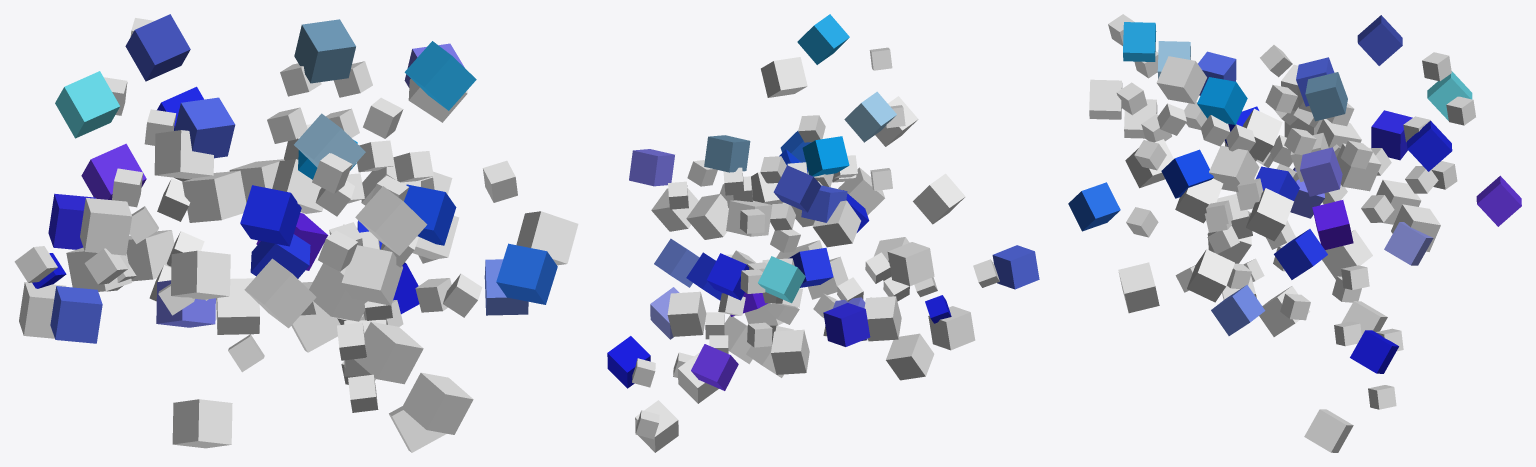
The model's file is fuer__svenja_test2.gltf.
3 views of the same model, side by side, from view 1: azimuth 30°, elevation 25°; view 2: azimuth 150°, elevation 25°; view 3: azimuth 270°, elevation 25° (orthographic). The views are drawn at different scales.
Parts seen in each view (by area): view 1: Cube.108, Cube.045, Cube.080, Cube.082, Cube.064, Cube.044, Cube.067, Cube.051, Cube.050, Cube.081, Cube.060, Cube.093 (+50 smaller); view 2: Cube.064, Cube.078, Cube.079, Cube.077, Cube.061, Cube.062, Cube.109, Cube.108, Cube.096, Cube.097, Cube.063, Cube.094 (+48 smaller); view 3: Cube.096, Cube.097, Cube.082, Cube.108, Cube.109, Cube.032, Cube.033, Cube.099, Cube, Cube.001, Cube.045, Cube.047 (+54 smaller).
Part boxes in pixels (bbox=[...]): Cube.108: bbox=[294, 19, 355, 83]; Cube.045: bbox=[402, 372, 473, 434]; Cube.080: bbox=[240, 185, 301, 246]; Cube.082: bbox=[496, 243, 557, 304]; Cube.064: bbox=[172, 399, 232, 448]; Cube.044: bbox=[354, 322, 423, 384]; Cube.067: bbox=[171, 250, 230, 299]; Cube.051: bbox=[55, 71, 120, 138]; Cube.050: bbox=[125, 14, 190, 81]; Cube.081: bbox=[341, 245, 402, 305]; Cube.060: bbox=[182, 170, 246, 222]; Cube.093: bbox=[244, 258, 316, 328]; Cube.064: bbox=[886, 333, 934, 380]; Cube.078: bbox=[887, 242, 934, 286]; Cube.079: bbox=[823, 303, 870, 346]; Cube.077: bbox=[992, 245, 1039, 289]; Cube.061: bbox=[667, 291, 706, 336]; Cube.062: bbox=[771, 329, 809, 374]; Cube.109: bbox=[629, 149, 674, 186]; Cube.108: bbox=[704, 135, 750, 172]; Cube.096: bbox=[761, 57, 807, 97]; Cube.097: bbox=[802, 136, 849, 176]; Cube.063: bbox=[864, 296, 901, 341]; Cube.094: bbox=[844, 91, 896, 142]; Cube.096: bbox=[1156, 56, 1206, 104]; Cube.097: bbox=[1197, 77, 1247, 124]; Cube.082: bbox=[1068, 182, 1120, 231]; Cube.108: bbox=[1305, 72, 1347, 121]; Cube.109: bbox=[1300, 147, 1342, 196]; Cube.032: bbox=[1187, 249, 1234, 302]; Cube.033: bbox=[1246, 188, 1293, 241]; Cube.099: bbox=[1209, 145, 1259, 192]; Cube: bbox=[1211, 285, 1265, 335]; Cube.001: bbox=[1274, 229, 1327, 279]; Cube.045: bbox=[1118, 262, 1159, 313]; Cube.047: bbox=[1312, 200, 1353, 249].
Bounding box in the file's own units: 28.5 × 27.36 × 28.49.
